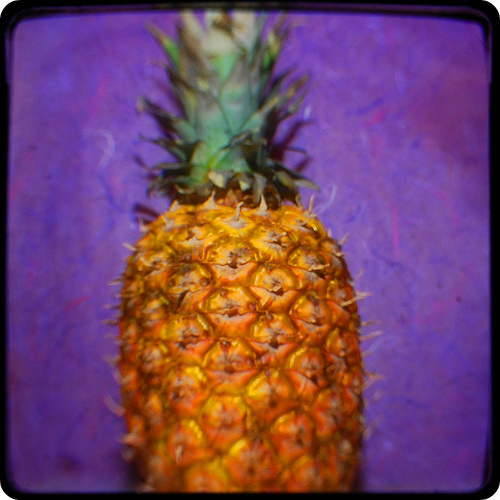pineapple: (105, 1, 380, 498)
